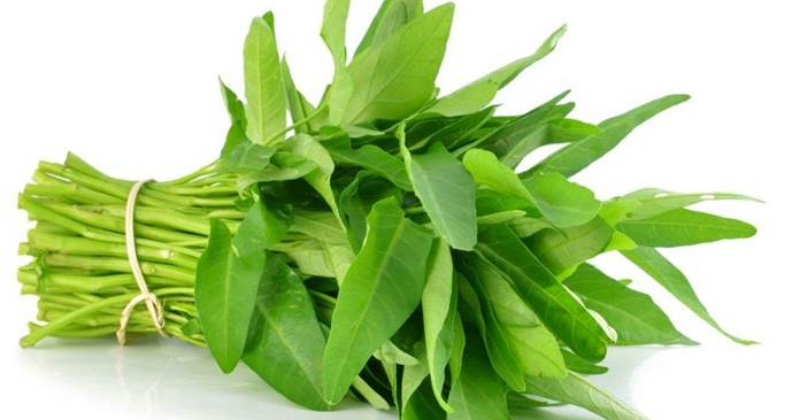Kangkung: (156, 67, 613, 368)
